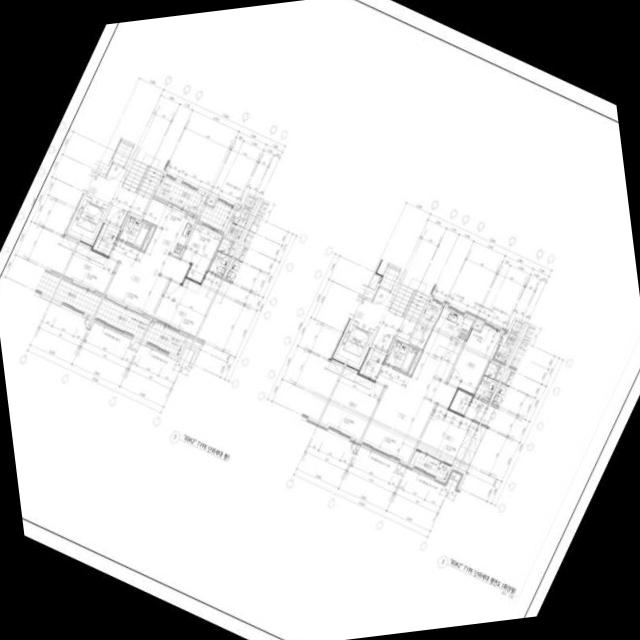background: (0, 0, 640, 640)
space_balconi: (153, 175, 234, 231), (94, 298, 148, 338), (52, 278, 100, 315), (142, 320, 192, 355), (408, 299, 441, 349), (493, 318, 523, 363), (409, 450, 449, 479)
space_bedroom: (416, 396, 487, 467), (319, 365, 383, 439), (152, 272, 220, 336), (447, 324, 500, 393), (63, 241, 117, 293), (180, 223, 221, 282)
space_elevator: (69, 199, 106, 239), (336, 323, 372, 364)
space_elevator_hall: (82, 162, 148, 226), (348, 287, 415, 350)
space_front: (358, 347, 385, 380), (91, 223, 118, 256)
space_kitchen: (414, 306, 472, 382), (159, 210, 195, 258)
space_living_room: (105, 198, 189, 315), (361, 365, 456, 462)
space_other: (231, 194, 256, 227), (140, 225, 154, 250), (407, 350, 421, 375), (227, 223, 242, 238), (358, 287, 372, 299), (91, 163, 106, 174), (494, 366, 503, 380), (234, 245, 243, 258), (500, 369, 509, 382), (228, 242, 237, 255), (204, 196, 215, 206), (471, 320, 482, 330)
space_staircase: (120, 146, 167, 199), (387, 271, 433, 324)
space_toilet: (118, 215, 150, 248), (384, 339, 416, 372), (207, 237, 232, 276), (474, 362, 498, 401)
